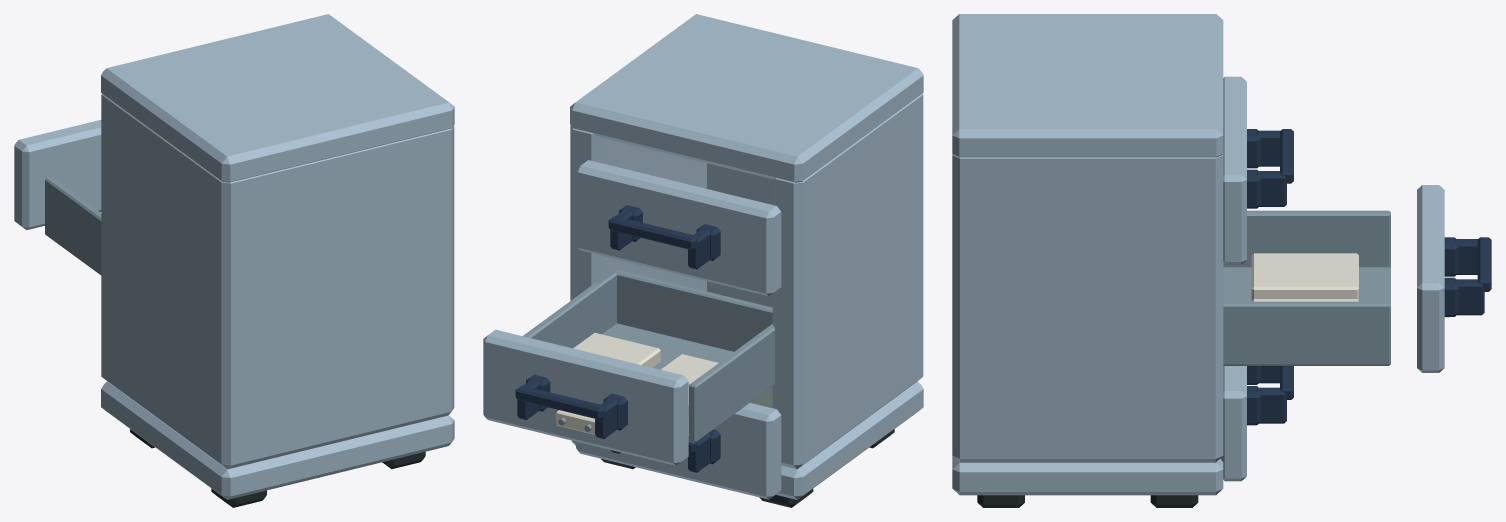
Rendered from searchable_file_cabinet_opened.glb.
3 views of the same model, side by side, from view 1: azimuth 30°, elevation 25°; view 2: azimuth 150°, elevation 25°; view 3: azimuth 270°, elevation 25° (orthographic). The views are drawn at different scales.
Parts seen in each view (by area): view 1: body_back_wall, body_left_wall, body_roof, body_floor, moving_drawer_face, body_right_wall, moving_tray_side; view 2: body_left_wall, body_roof, fixed_drawer_face (×2), moving_drawer_face, moving_tray_side (×2), moving_tray_back, body_right_wall, body_back_wall, body_floor, moving_document_stack (×2), moving_tray_floor, fixed_drawer_pull_bar (+4 smaller); view 3: body_right_wall, body_roof, moving_tray_side (×2), body_floor, fixed_drawer_face (×2), moving_drawer_face, moving_document_stack, body_back_wall, moving_tray_floor, fixed_drawer_pull_right (×2), rubber_foot (×2), moving_drawer_pull_right (+4 smaller).
Part boxes in pixels (<box>): body_back_wall: <box>211,129,451,468</box>; body_left_wall: <box>101,93,249,469</box>; body_roof: <box>101,14,454,182</box>; body_floor: <box>101,381,454,499</box>; moving_drawer_face: <box>14,120,101,230</box>; body_right_wall: <box>430,125,454,419</box>; moving_tray_side: <box>45,177,101,274</box>; body_left_wall: <box>772,94,923,469</box>; body_roof: <box>570,14,923,182</box>; fixed_drawer_face (×2): <box>576,160,781,499</box>; moving_drawer_face: <box>483,329,688,465</box>; moving_tray_side (×2): <box>523,271,774,441</box>; moving_tray_back: <box>616,270,772,351</box>; body_right_wall: <box>570,125,706,300</box>; body_back_wall: <box>707,94,923,386</box>; body_floor: <box>571,381,923,499</box>; moving_document_stack (×2): <box>573,333,718,417</box>; moving_tray_floor: <box>602,323,735,443</box>; fixed_drawer_pull_bar: <box>608,216,698,249</box>; body_right_wall: <box>952,154,1223,462</box>; body_roof: <box>952,14,1223,157</box>; moving_tray_side (×2): <box>1223,210,1390,365</box>; body_floor: <box>952,456,1223,495</box>; fixed_drawer_face (×2): <box>1220,76,1246,481</box>; moving_drawer_face: <box>1417,185,1444,372</box>; moving_document_stack: <box>1251,253,1358,300</box>; body_back_wall: <box>960,157,982,462</box>; moving_tray_floor: <box>1223,267,1390,365</box>; fixed_drawer_pull_right (×2): <box>1257,171,1286,423</box>; rubber_foot (×2): <box>977,495,1198,507</box>; moving_drawer_pull_right: <box>1455,279,1484,315</box>.
Size of the model in its own units: 0.72 by 1.07 by 1.35.
